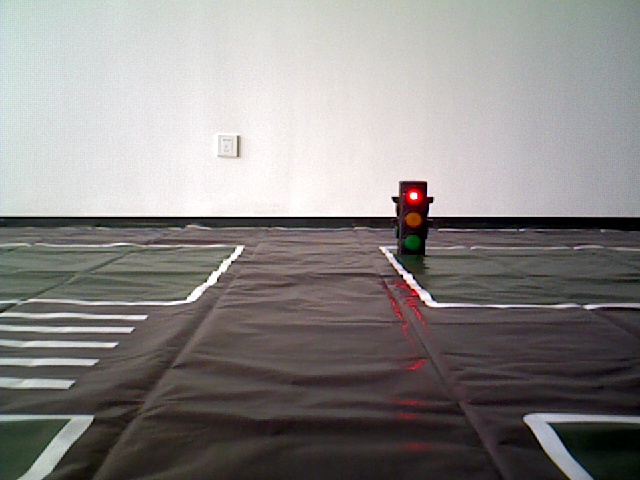red: (399, 181, 425, 253)
